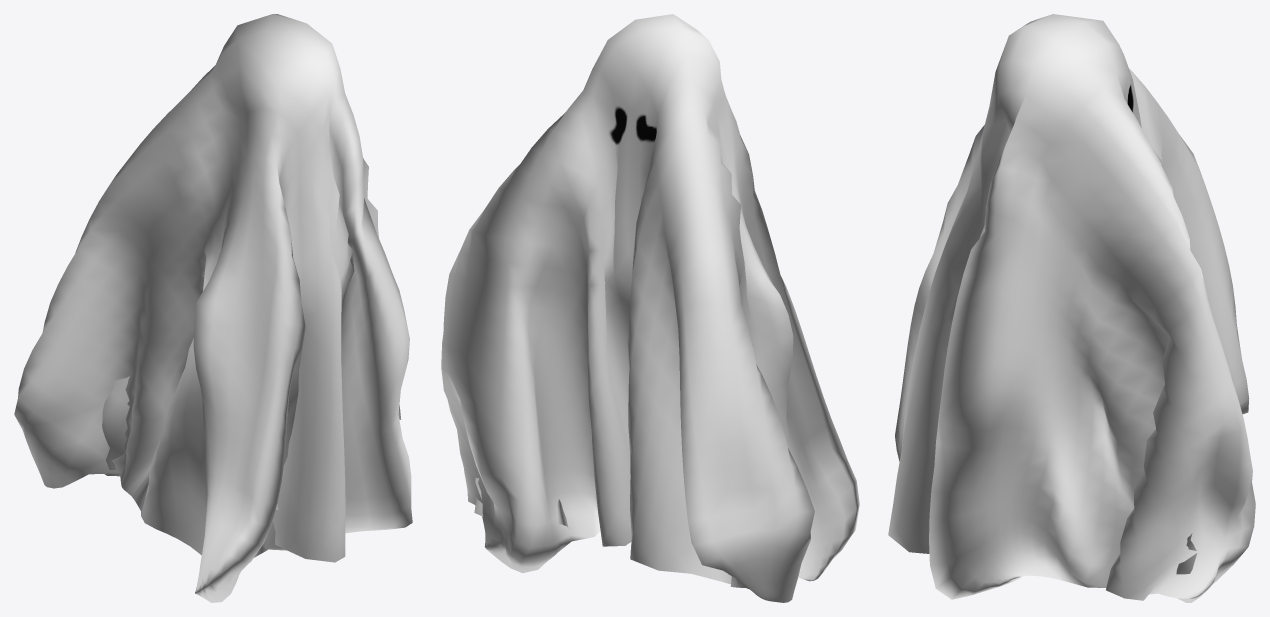
Rendered from AnotherGhost.glb.
3 renders of one model, left to right at view 1: azimuth 30°, elevation 25°; view 2: azimuth 150°, elevation 25°; view 3: azimuth 270°, elevation 25°, orthographic. The views are drawn at different scales.
Visible parts, largest first — view 1: Plane.001; view 2: Plane.001; view 3: Plane.001.
Boxes of the visible parts, left/top/right/bottom form: Plane.001: left=14, top=14, right=412, bottom=602; Plane.001: left=441, top=14, right=859, bottom=602; Plane.001: left=888, top=14, right=1255, bottom=602.
Size of the model in its own units: 4.45 by 6.27 by 3.6.
Materials: 1 (1 with a texture image).
